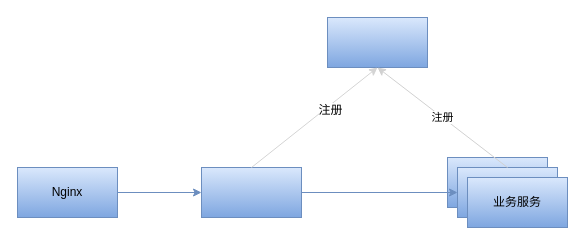
Image size: 585x245. Some labels were removed from this diagram. Here are the shapes that lost their labels. From the top down, the centre of each, then its label:
At point 377,42: "注册中心".
At point 251,192: "网关".
